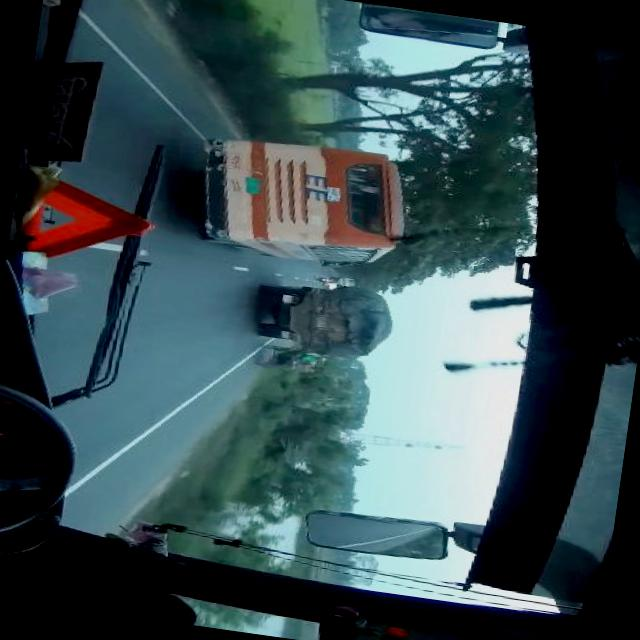bus: (196, 130, 414, 272)
motorcycle: (255, 342, 330, 376), (317, 275, 339, 283), (320, 260, 340, 267)
truck: (256, 275, 398, 355)
